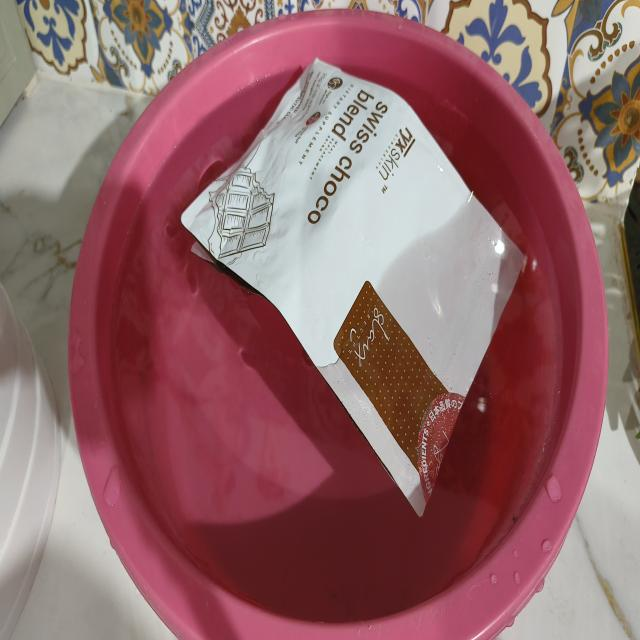Plastic Wrapper: (164, 39, 548, 553)
